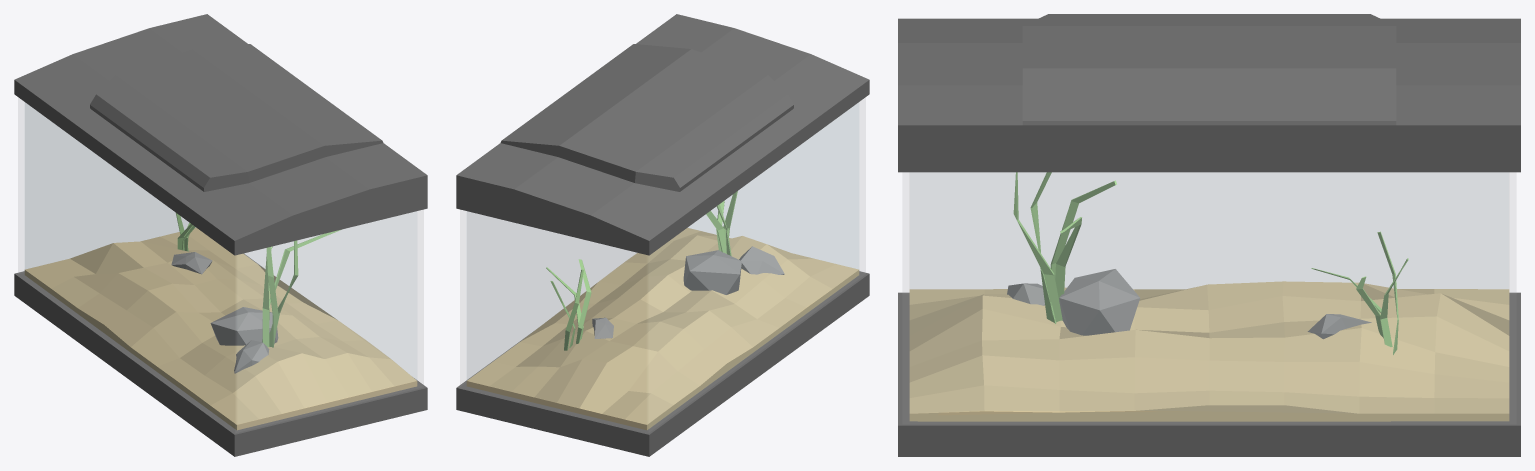
The model's file is fishtank.glb.
The picture shows the model from 3 angles, left to right: view 1: azimuth 30°, elevation 25°; view 2: azimuth 150°, elevation 25°; view 3: azimuth 270°, elevation 25°; orthographic projection. The views are drawn at different scales.
Visible parts, largest first — view 1: Fish_Tank_Cube.003; view 2: Fish_Tank_Cube.003; view 3: Fish_Tank_Cube.003.
Part boxes in pixels (x1=…): Fish_Tank_Cube.003: x1=14, y1=14, x2=427, y2=456; Fish_Tank_Cube.003: x1=456, y1=14, x2=869, y2=456; Fish_Tank_Cube.003: x1=898, y1=14, x2=1520, y2=456.
Bounding box in the file's own units: 1.29 × 1.57 × 2.55.
